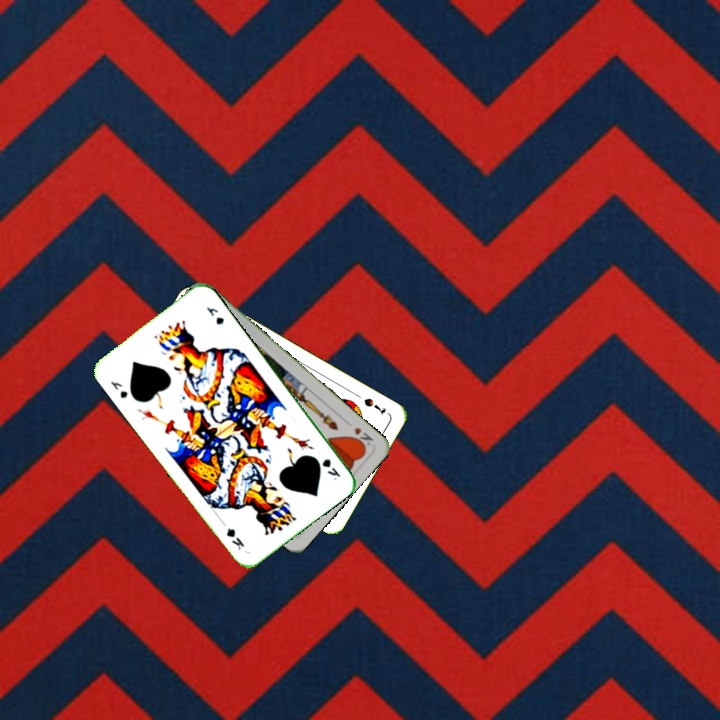GK: (318, 454, 343, 483), (106, 377, 130, 401)
HK: (347, 423, 376, 452)
S7: (360, 394, 388, 418)
